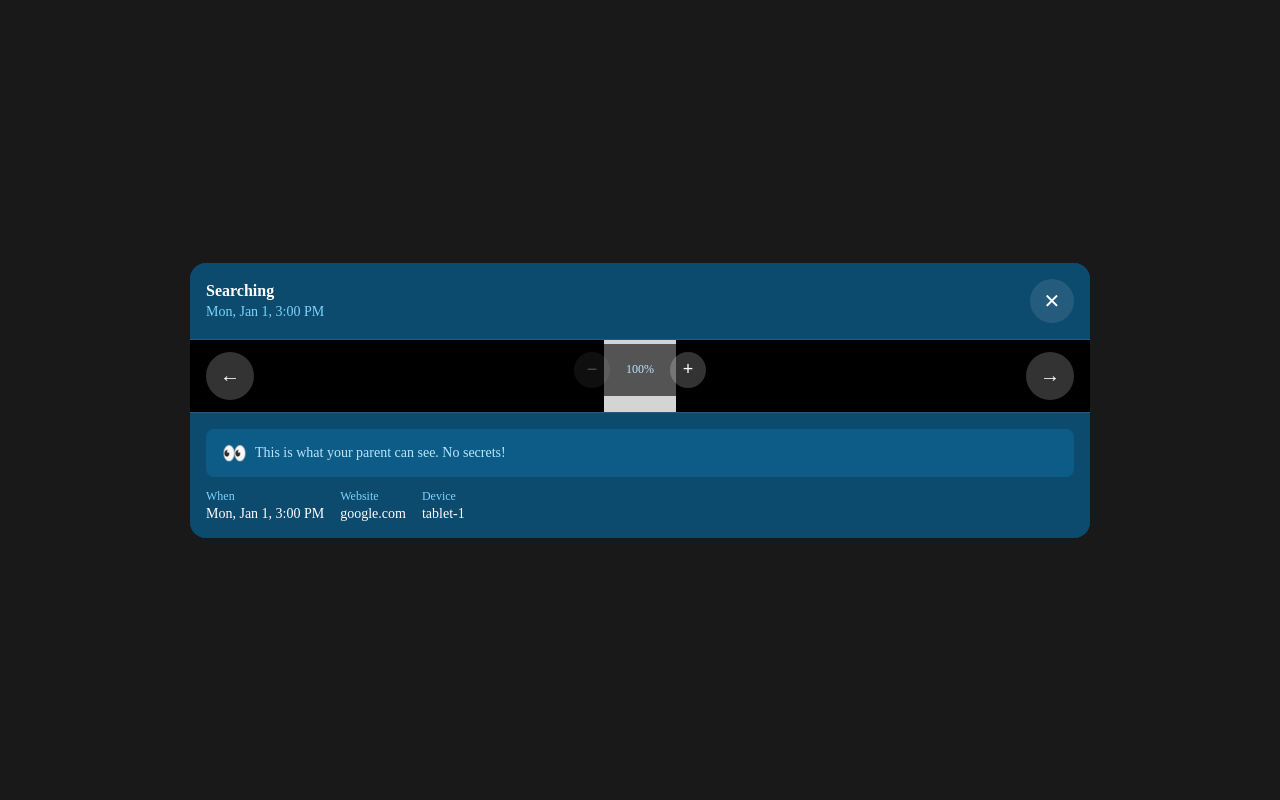
Scenario: ChildScreenshotDetail › Zoom Controls › should decrease zoom when zoom out button is clicked
# First zoom in
Click the button with test id "zoom-in-button": (688, 370) top-left (670, 352), bottom-right (706, 388)
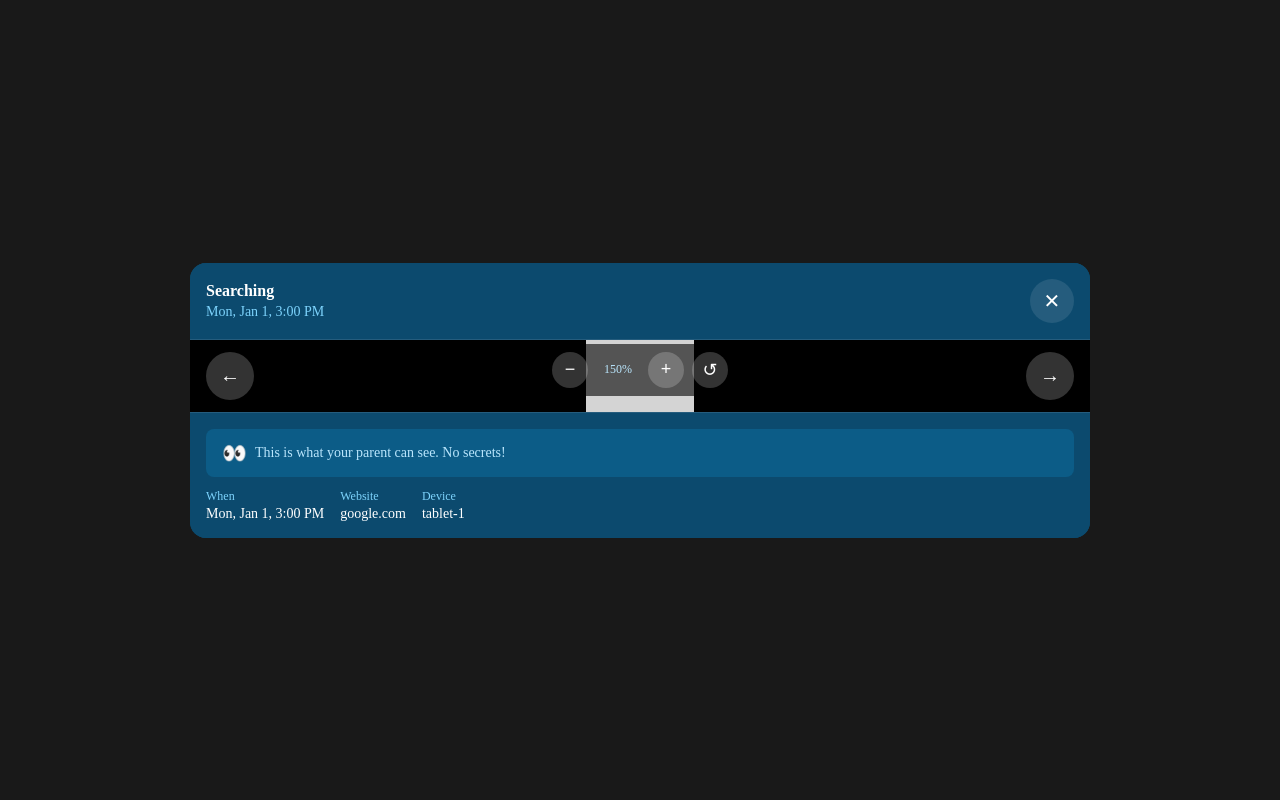
Expected: the text with test id "zoom-level" reads "150%", top-left (604, 362), bottom-right (632, 376)
# Then zoom out
Click the button with test id "zoom-out-button": (570, 370) top-left (552, 352), bottom-right (588, 388)
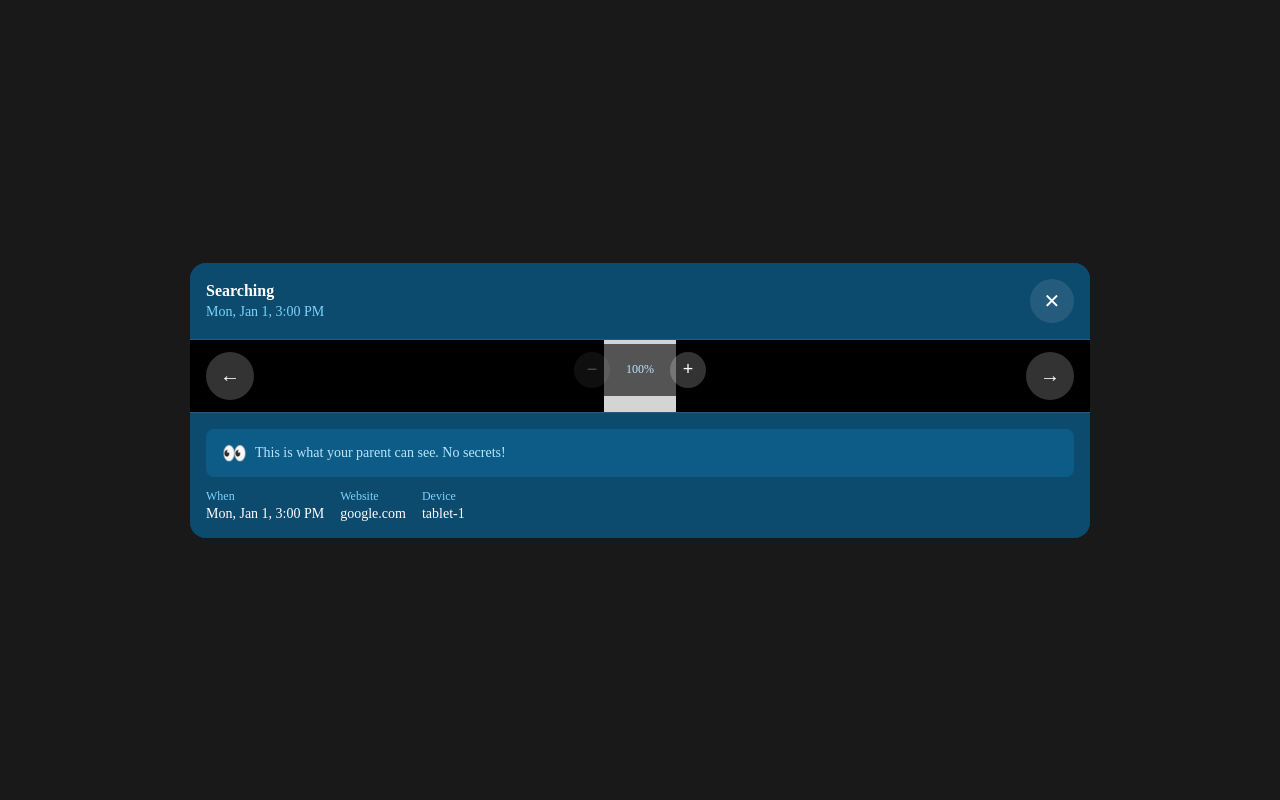
Expected: the text with test id "zoom-level" reads "100%", top-left (626, 362), bottom-right (654, 376)
